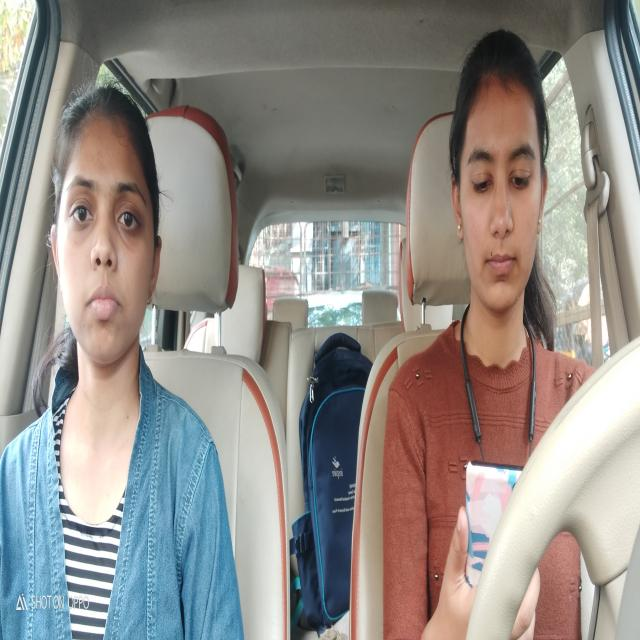mobile: (450, 436, 536, 620)
person: (44, 81, 168, 378), (445, 26, 559, 329)
